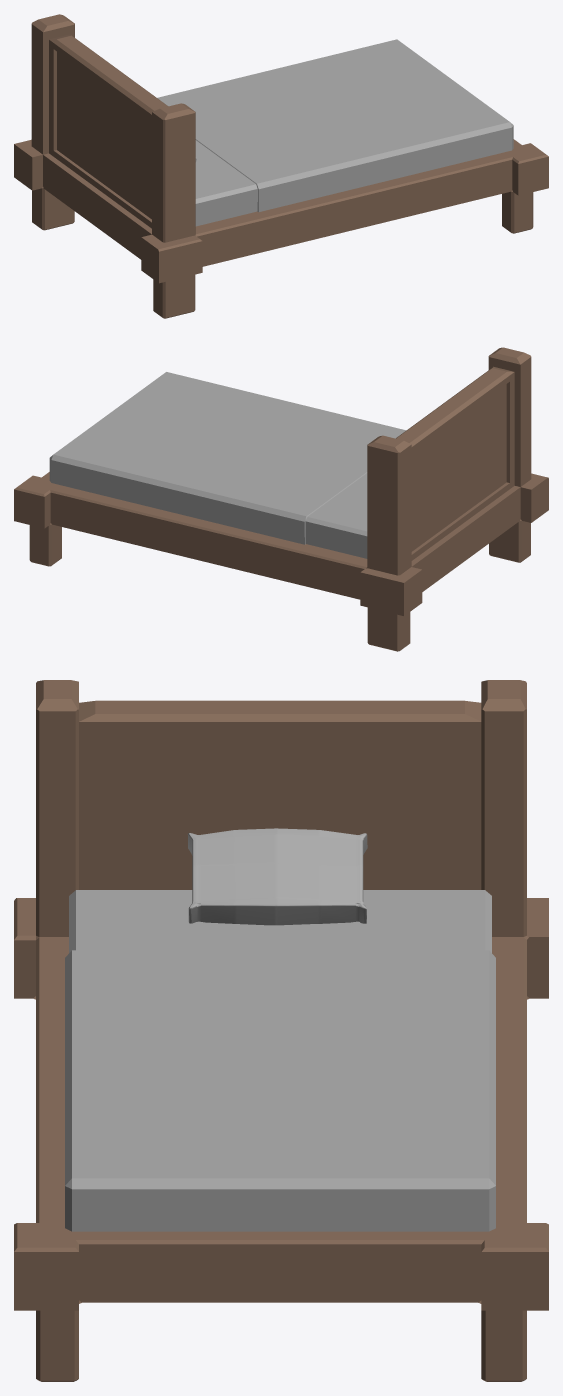
The model's file is Bed.fbx.
3 views of the same model, one above another, from view 1: azimuth 30°, elevation 25°; view 2: azimuth 150°, elevation 25°; view 3: azimuth 270°, elevation 25° (orthographic). The views are drawn at different scales.
Visible parts, largest first — view 1: pCube1, pasted__pCube2, pCube2; view 2: pCube1, pasted__pCube2, pCube2; view 3: pCube1, pasted__pCube2, pCube2, pCube3.
Part boxes in pixels (x1=…): pCube1: x1=14, y1=14, x2=548, y2=318; pasted__pCube2: x1=157, y1=39, x2=513, y2=212; pCube2: x1=195, y1=140, x2=257, y2=226; pCube1: x1=14, y1=347, x2=548, y2=651; pasted__pCube2: x1=49, y1=372, x2=405, y2=544; pCube2: x1=305, y1=473, x2=367, y2=558; pCube1: x1=14, y1=680, x2=548, y2=1381; pasted__pCube2: x1=65, y1=950, x2=495, y2=1231; pCube2: x1=69, y1=890, x2=491, y2=952; pCube3: x1=187, y1=828, x2=367, y2=925.
Size of the model in its own units: 7.78 by 3.86 by 5.01.
